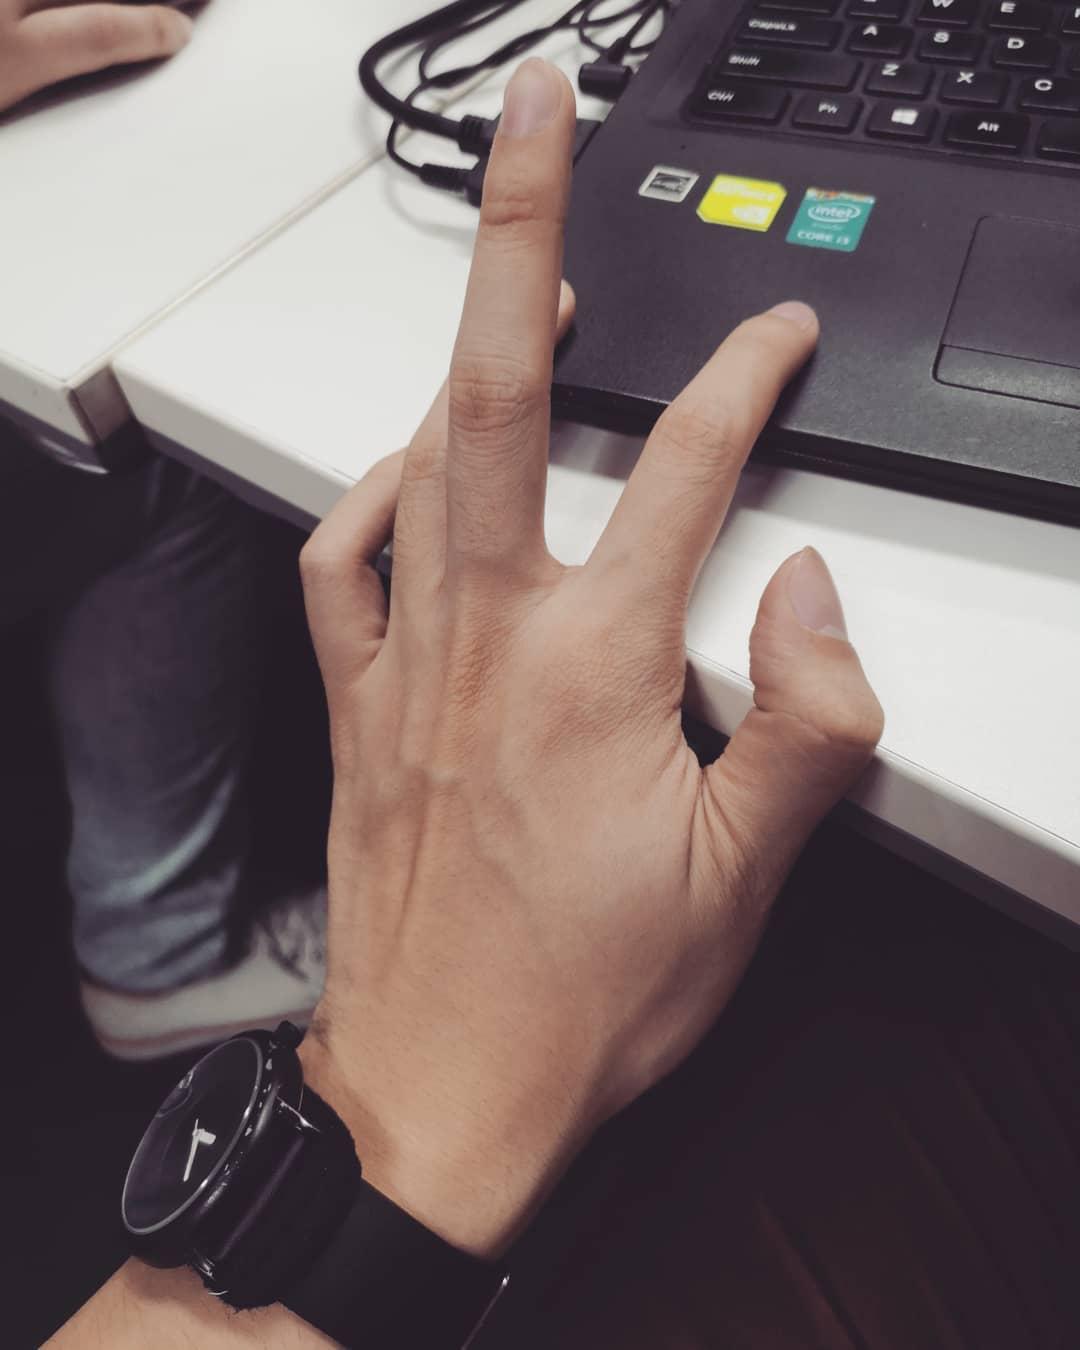hand: (315, 83, 836, 1201)
